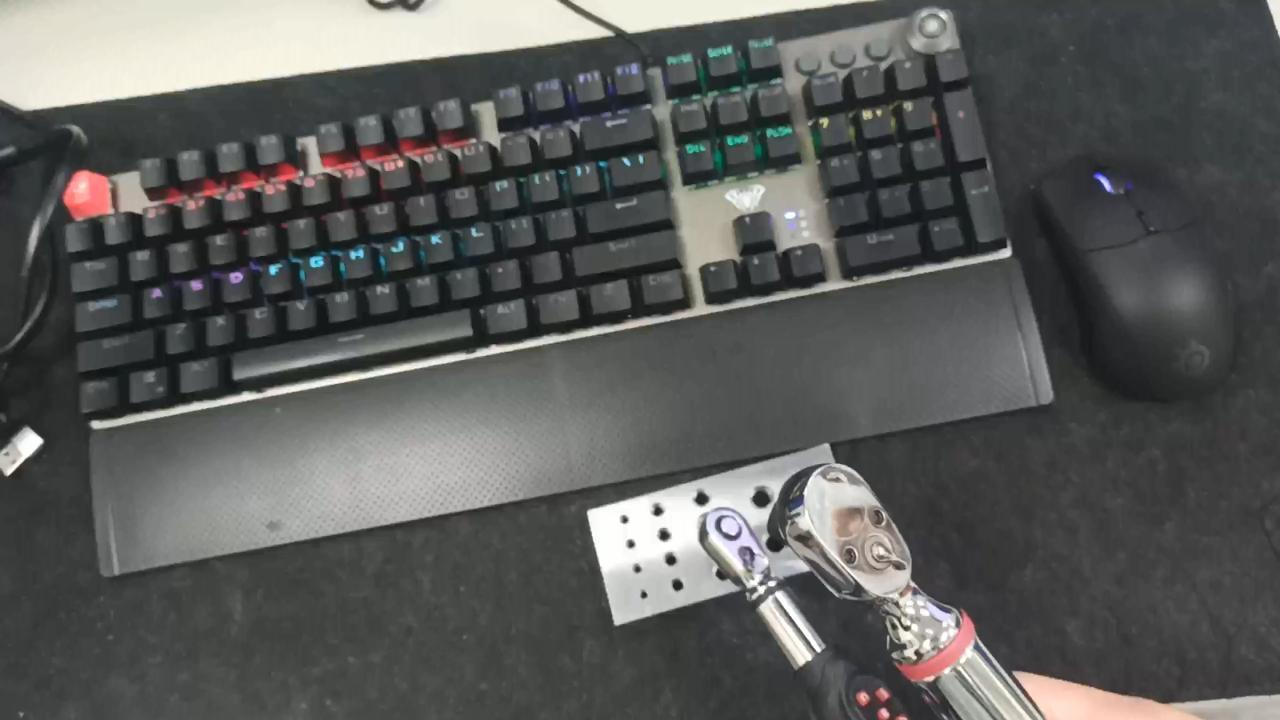Tool: (782, 461, 962, 657), (700, 505, 766, 596)
